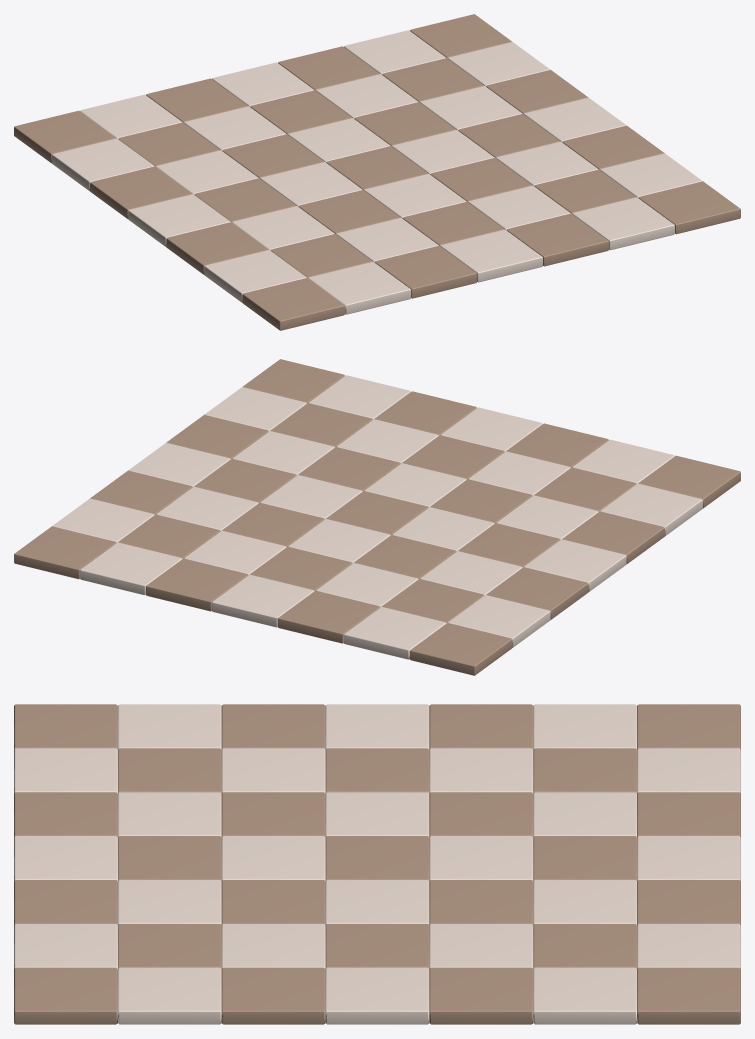
The model's file is Tile_3.glb.
3 renders of one model, top to bottom at view 1: azimuth 30°, elevation 25°; view 2: azimuth 150°, elevation 25°; view 3: azimuth 270°, elevation 25°, orthographic. The views are drawn at different scales.
Visible parts, largest first — view 1: Tile_3; view 2: Tile_3; view 3: Tile_3.
Boxes of the visible parts, x1,y1,x2,y2 form: Tile_3: (14, 14, 740, 330); Tile_3: (14, 359, 740, 675); Tile_3: (14, 704, 740, 1024).
Size of the model in its own units: 4.6 by 0.1 by 4.6.
1 material, 1 textured.
